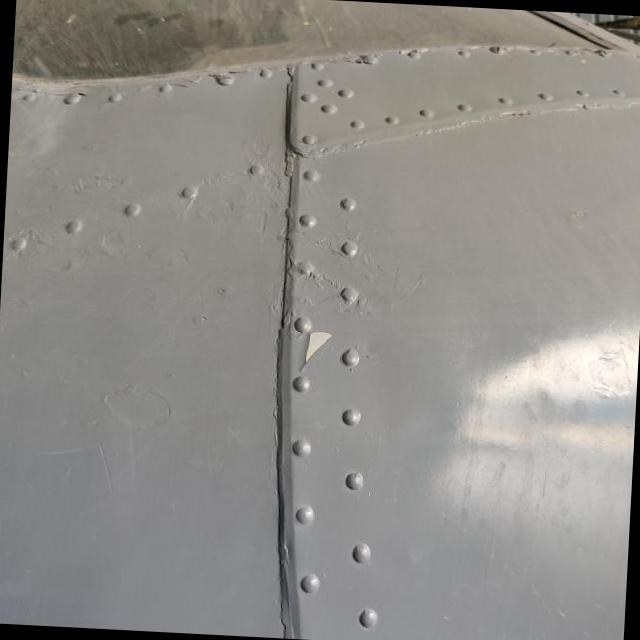Paint-off: (303, 330, 335, 369)
